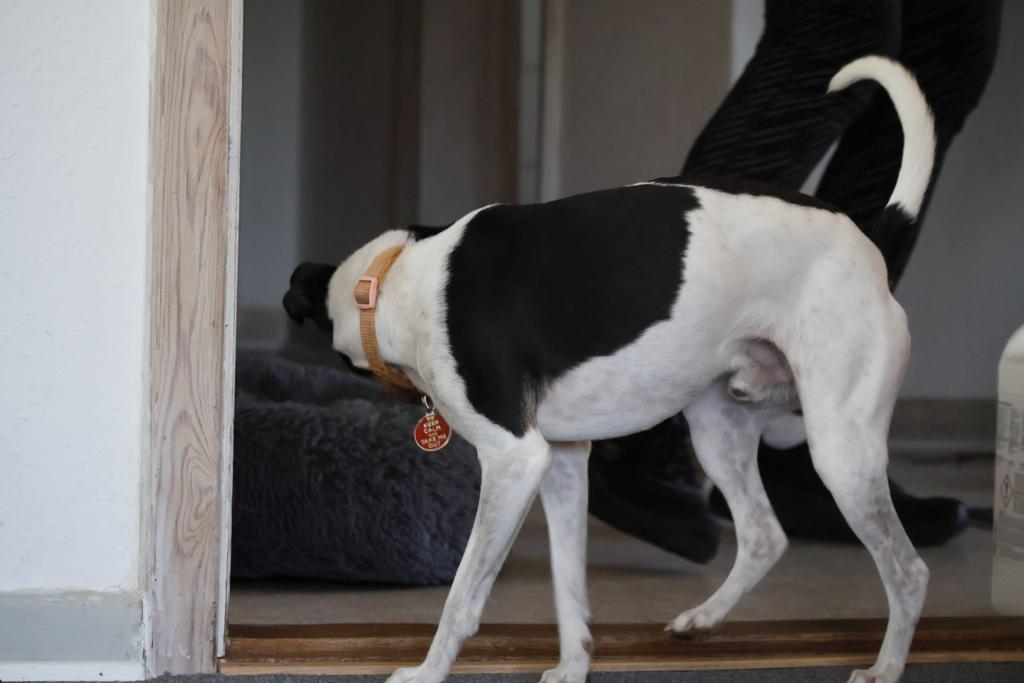Dog: (267, 44, 954, 683)
Humanoid: (577, 0, 1014, 572)
